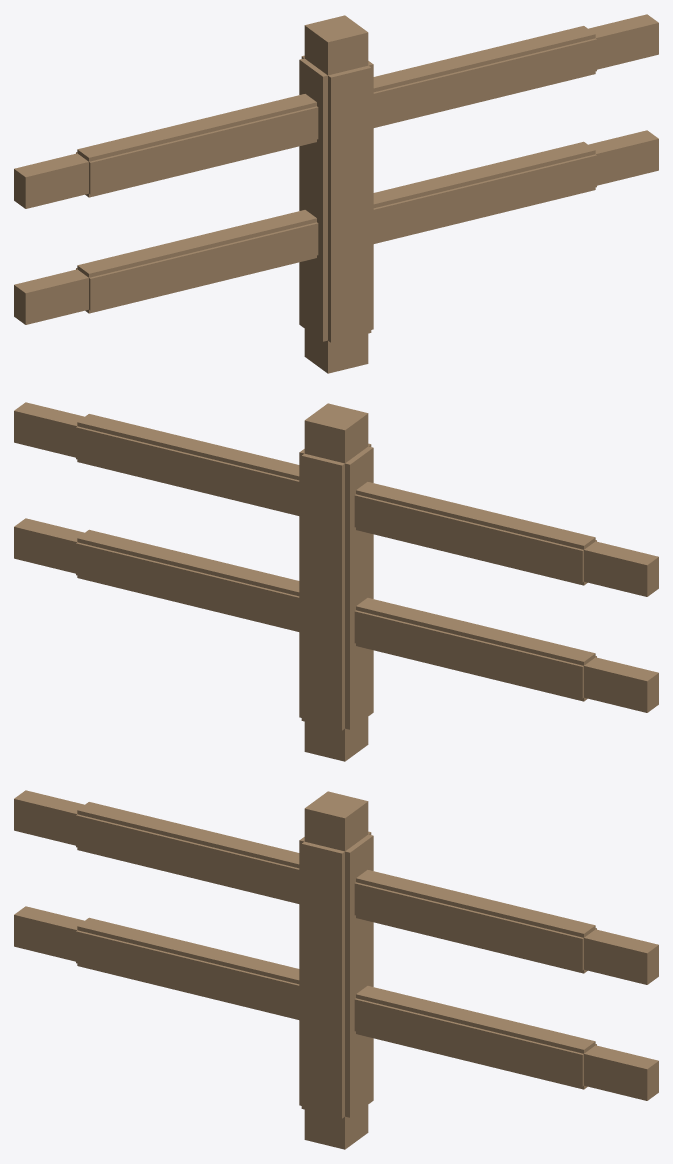
The model's file is env_common_fence_post.glb.
3 renders of one model, top to bottom at view 1: azimuth 30°, elevation 25°; view 2: azimuth 150°, elevation 25°; view 3: azimuth 330°, elevation 25°, orthographic.
Parts seen in each view (by area): view 1: box; view 2: box; view 3: box.
Part boxes in pixels (x1,y1,x2,y2): box: (14, 14, 658, 373); box: (14, 402, 658, 761); box: (14, 790, 658, 1149).
Size of the model in its own units: 2 by 1 by 0.16.
